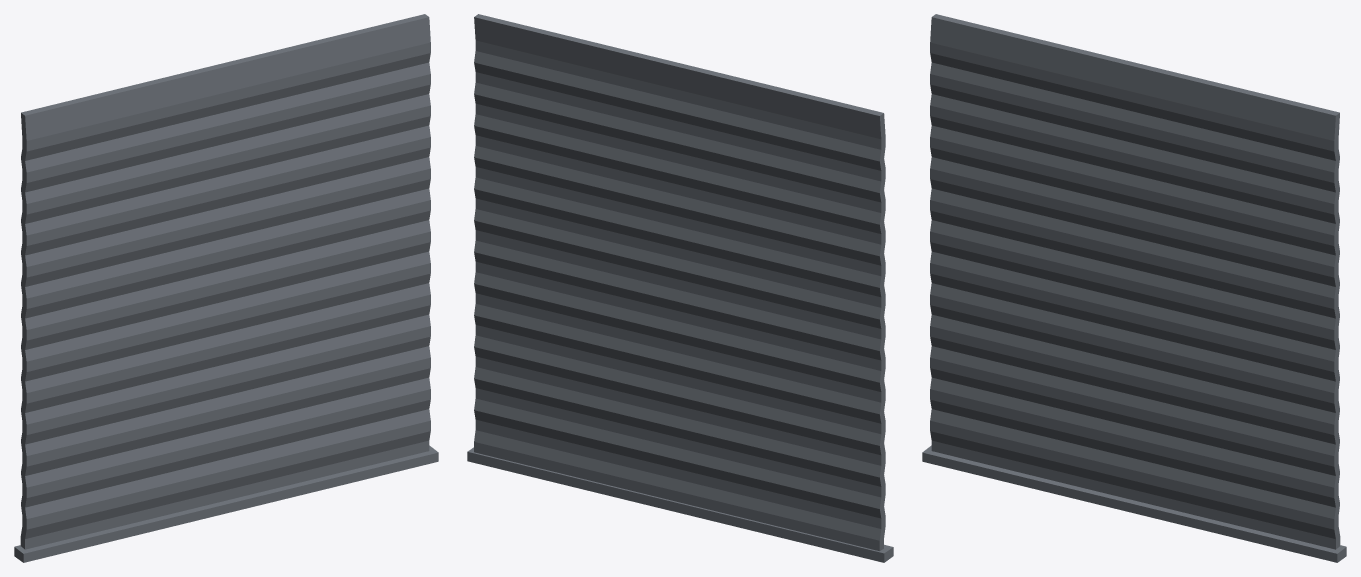
The model's file is SM_Bld_Door_Garage_02.glb.
3 renders of one model, left to right at view 1: azimuth 30°, elevation 25°; view 2: azimuth 150°, elevation 25°; view 3: azimuth 330°, elevation 25°, orthographic.
Parts seen in each view (by area): view 1: SM_Bld_Door_Garage_02; view 2: SM_Bld_Door_Garage_02; view 3: SM_Bld_Door_Garage_02.
Boxes of the visible parts, bbox=[...] form: SM_Bld_Door_Garage_02: bbox=[14, 14, 438, 562]; SM_Bld_Door_Garage_02: bbox=[467, 14, 893, 562]; SM_Bld_Door_Garage_02: bbox=[922, 14, 1346, 562].
Size of the model in its own units: 2.82 by 2.87 by 0.1093.
Materials: 1 (1 with a texture image).
